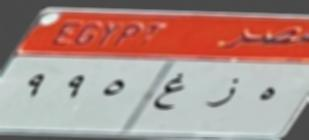5: (101, 73, 128, 104)
9: (61, 72, 90, 107), (24, 72, 51, 105)
ghayn: (154, 70, 188, 119)
haa: (252, 80, 286, 108)
zay: (202, 73, 245, 112)
